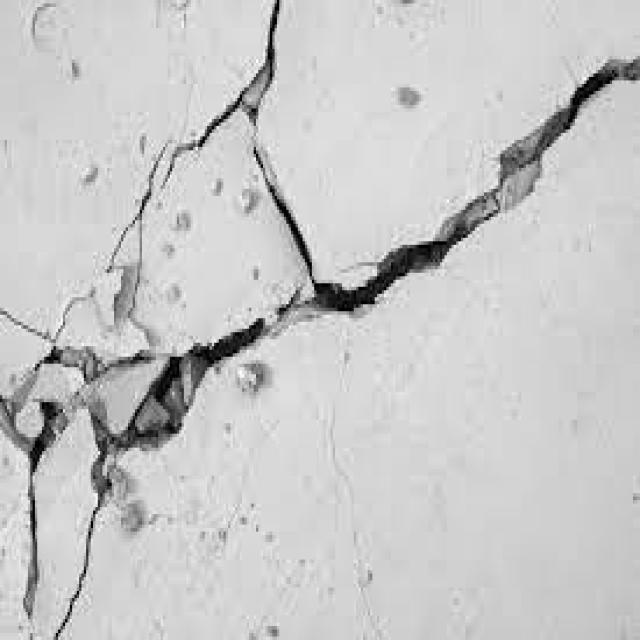Crack: (0, 280, 310, 636), (310, 49, 636, 308), (100, 0, 314, 301)
